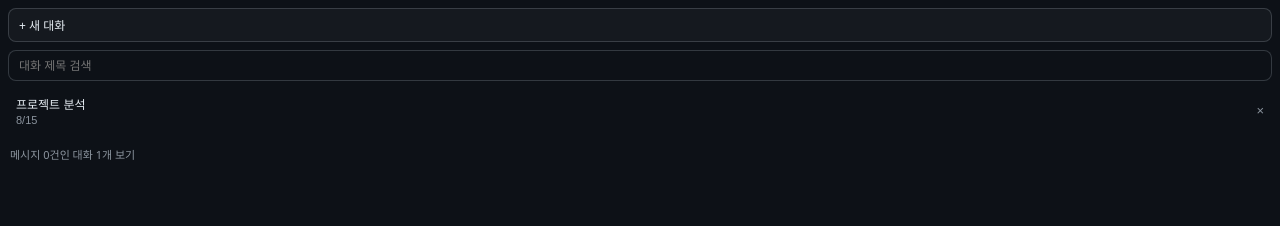
Scenario: 빈 대화 › 몇 개를 무슨 근거로 접었는지 줄로 말하고, 눌러서 편다
This screenshot has width=1280, height=226.
Click the button "메시지 0건인 대화 1개 보기" at (53, 154), box [6,140,1274,168]
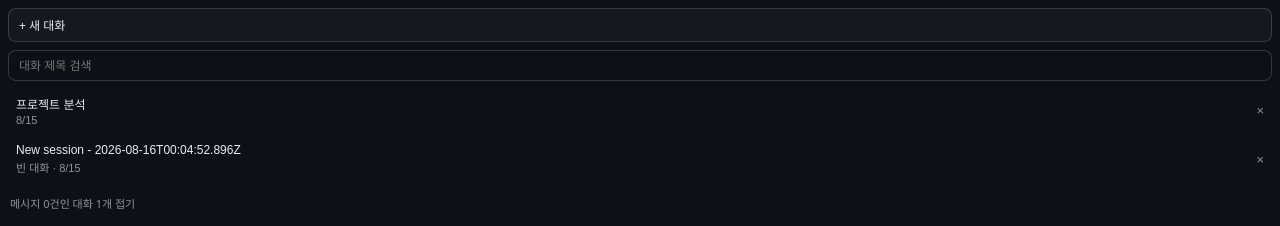
Check: the text "New session - 2026-08-16T00:04:52.896Z" is shown, box [16,143,241,157]
